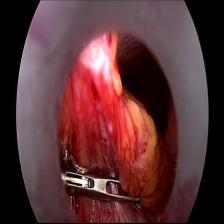Grasper: (61, 165, 141, 205)
